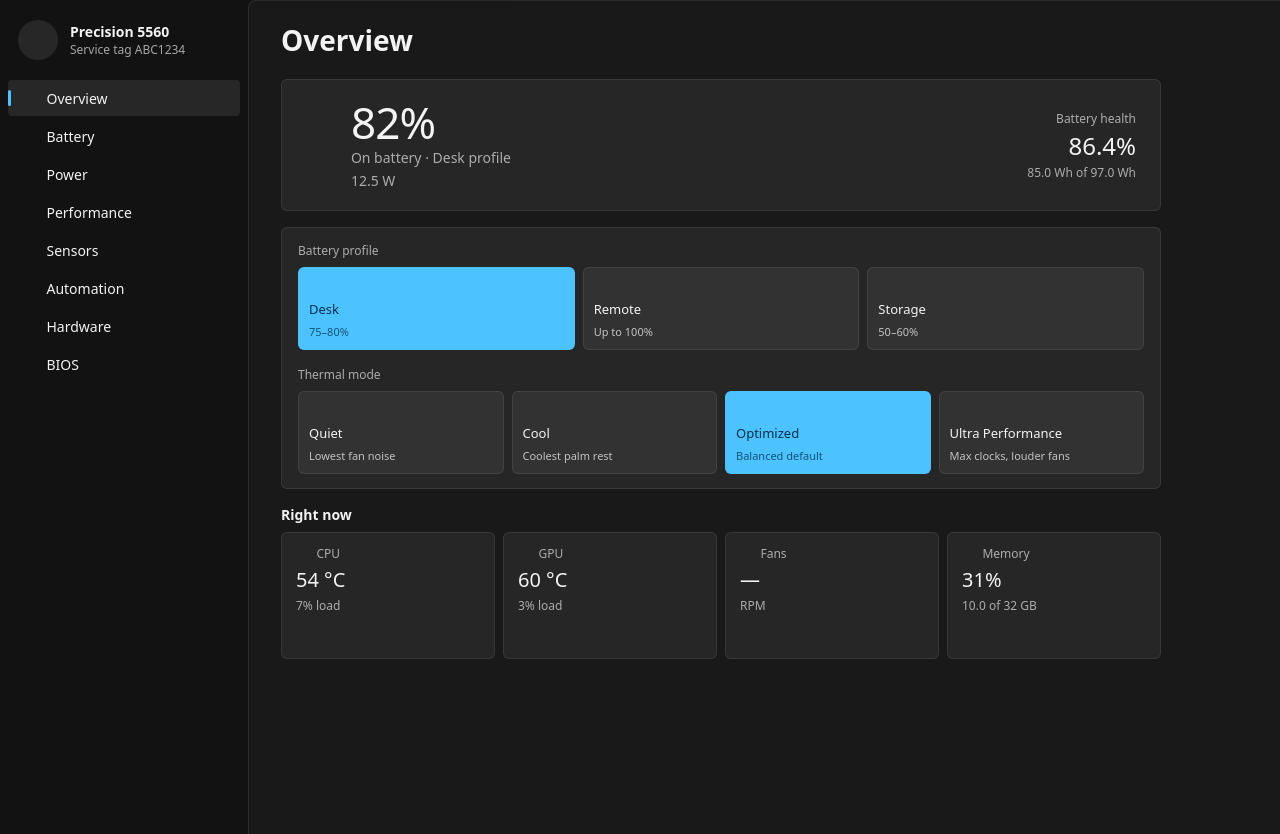
Test case: FullWindow › wear shows "13.6%" for wearPct 13.6
Click the button "Battery" at (124, 136), box [8,118,240,154]
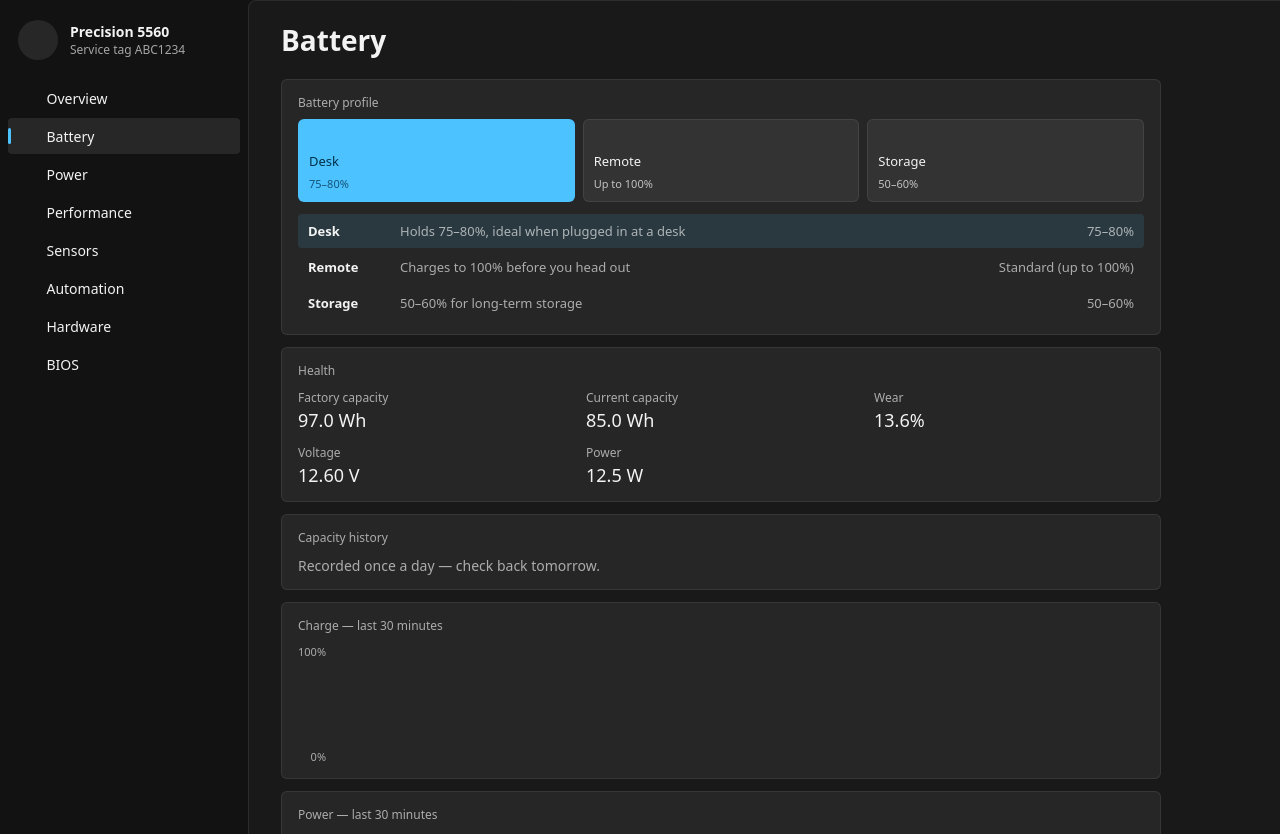
expect the text "13.6%" is shown: met, box [874,408,925,432]
